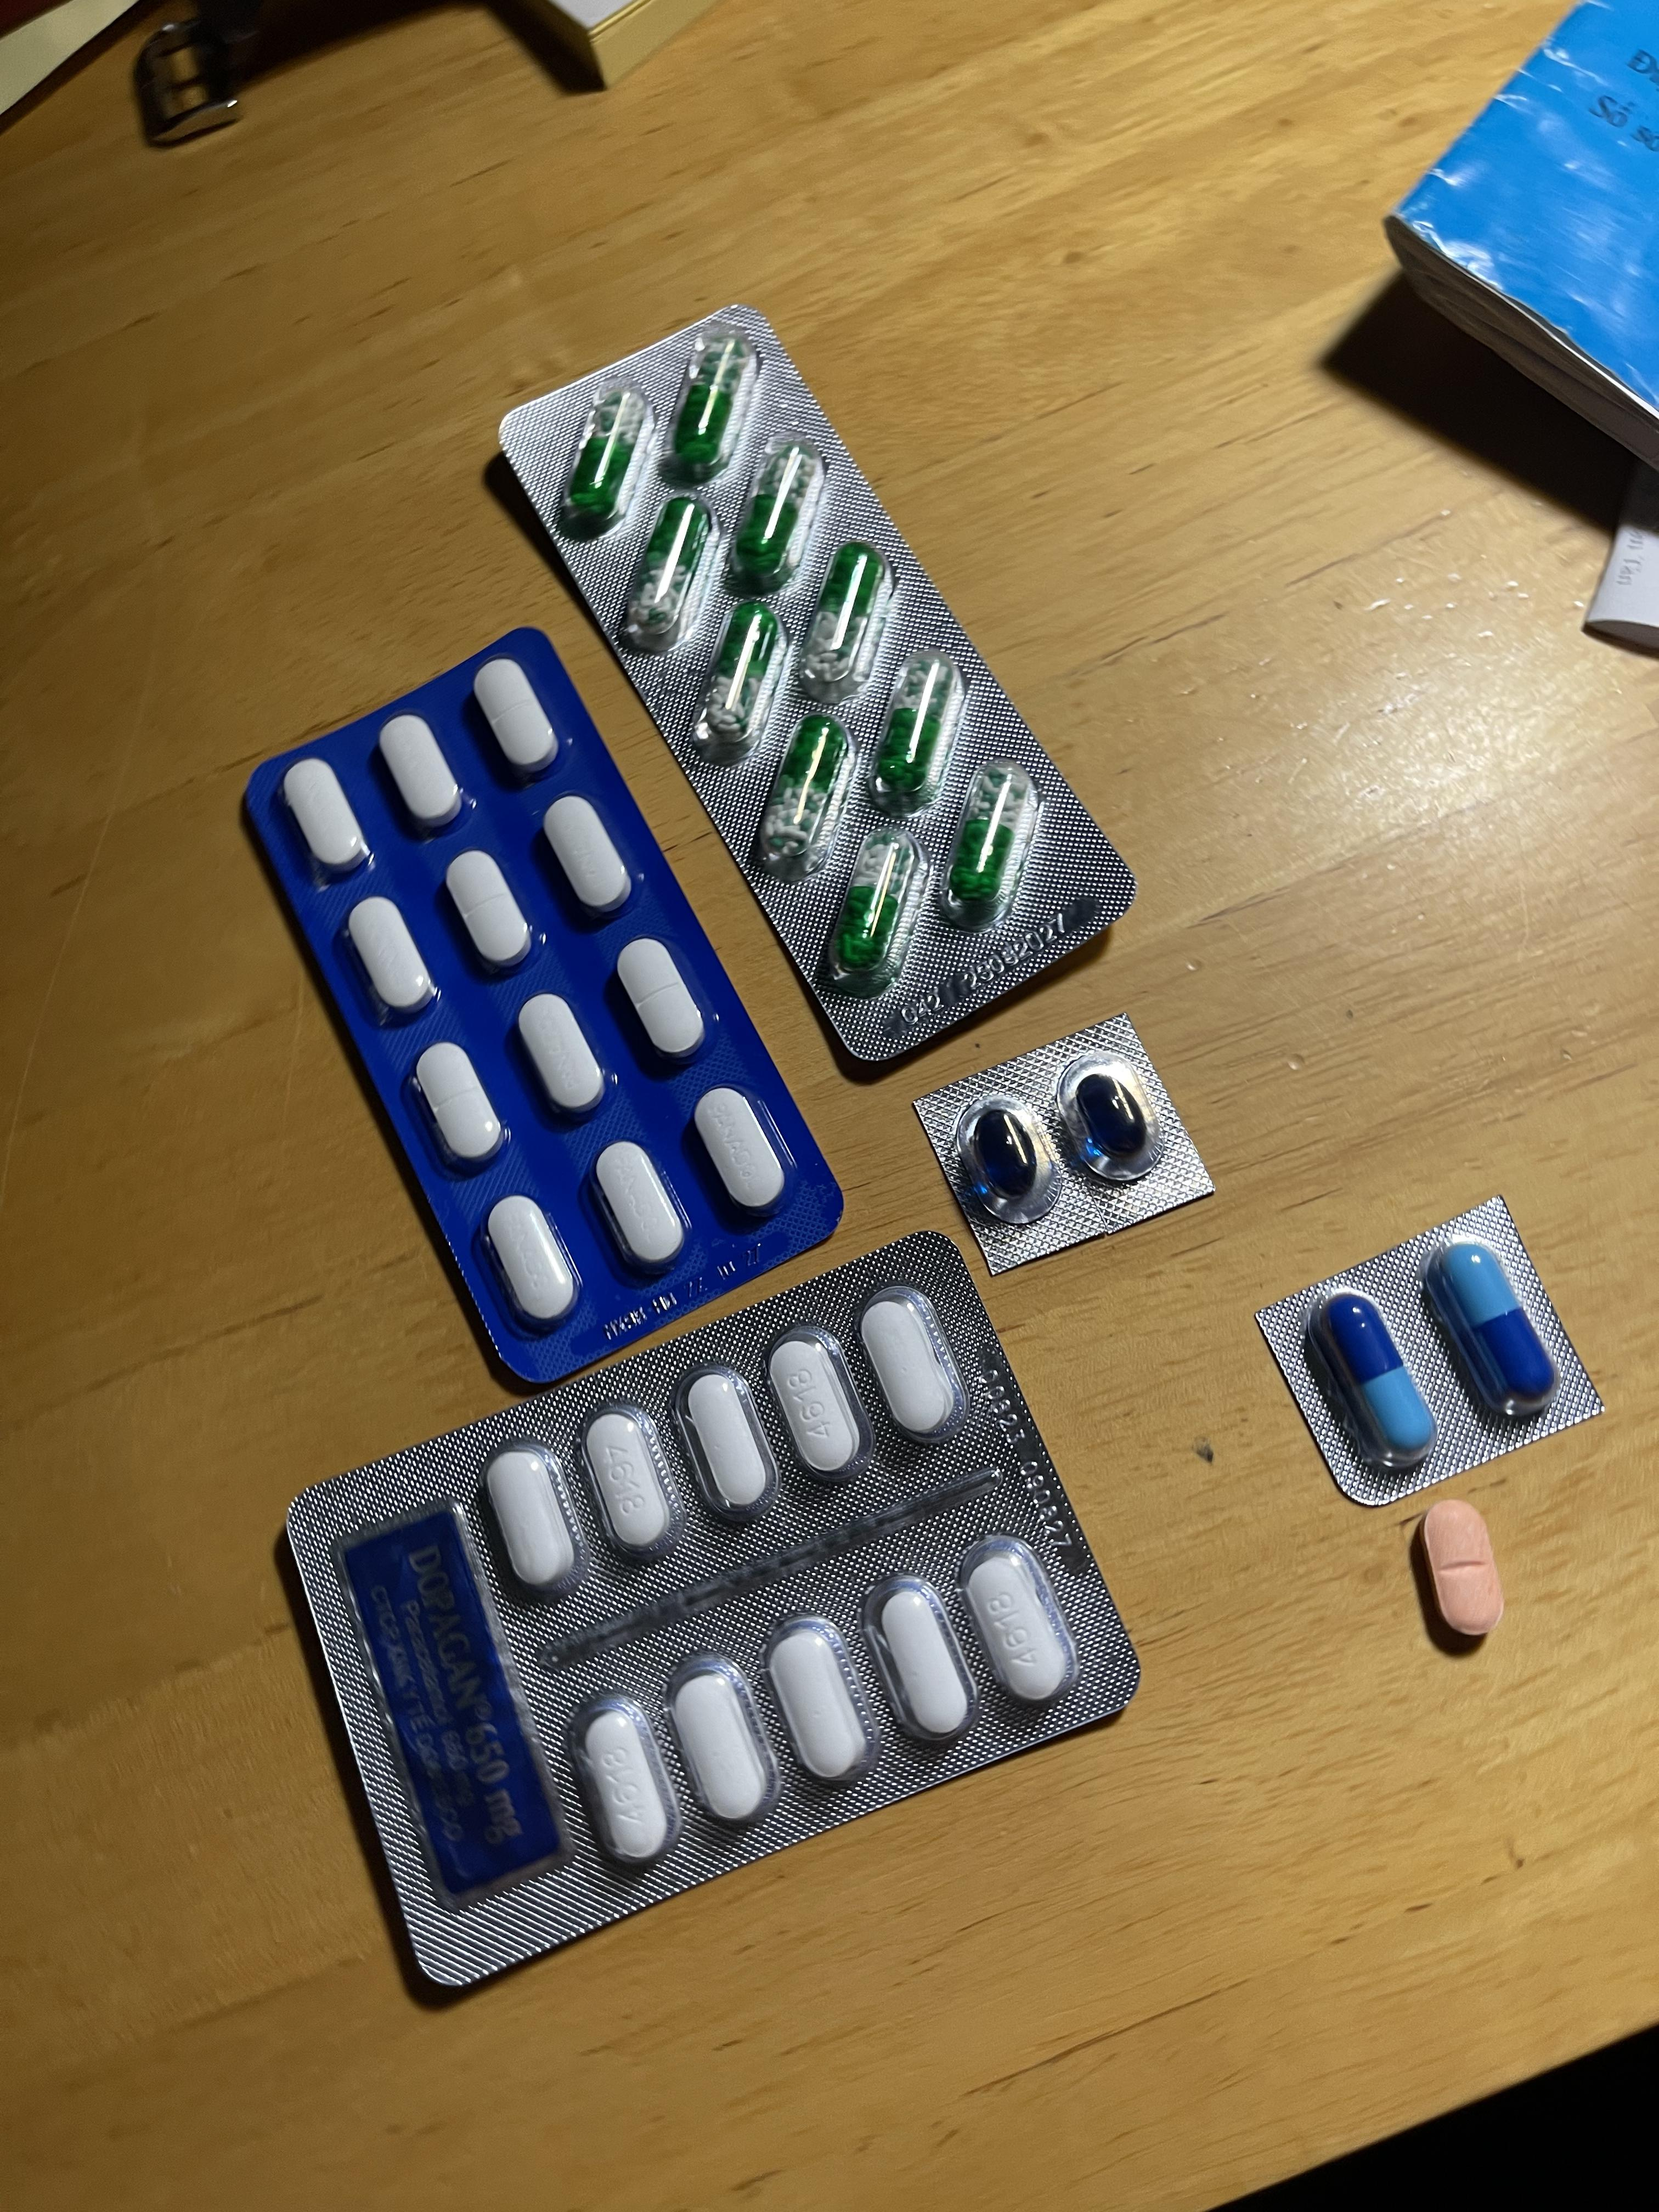Lincomyxin_500mg: (1077, 1073, 1148, 1157), (971, 1106, 1037, 1193)
Loratadine_10mg: (1419, 1498, 1500, 1637)
Paracetamol_350mg: (591, 1139, 688, 1273), (483, 1193, 579, 1329), (692, 1085, 789, 1212), (615, 935, 708, 1061), (542, 792, 633, 916), (415, 1042, 504, 1167), (518, 991, 606, 1116), (345, 895, 434, 1019), (444, 848, 532, 970), (282, 756, 366, 878), (474, 658, 559, 777), (378, 712, 464, 831)
Paracetamol_500mg: (767, 1620, 868, 1784), (579, 1400, 678, 1561), (678, 1360, 775, 1522), (765, 1329, 866, 1482), (875, 1581, 971, 1742), (969, 1552, 1070, 1703), (673, 1670, 767, 1824), (579, 1703, 669, 1862), (857, 1296, 953, 1435), (484, 1444, 573, 1588)
Paracetamol_650mg: (823, 826, 925, 991), (725, 441, 830, 589), (945, 754, 1035, 925), (666, 327, 762, 486), (756, 712, 850, 873), (559, 376, 653, 535), (871, 651, 962, 806), (626, 493, 716, 641), (800, 543, 889, 691), (697, 601, 782, 752)
pill: (1434, 1240, 1554, 1406), (1317, 1292, 1436, 1460)
